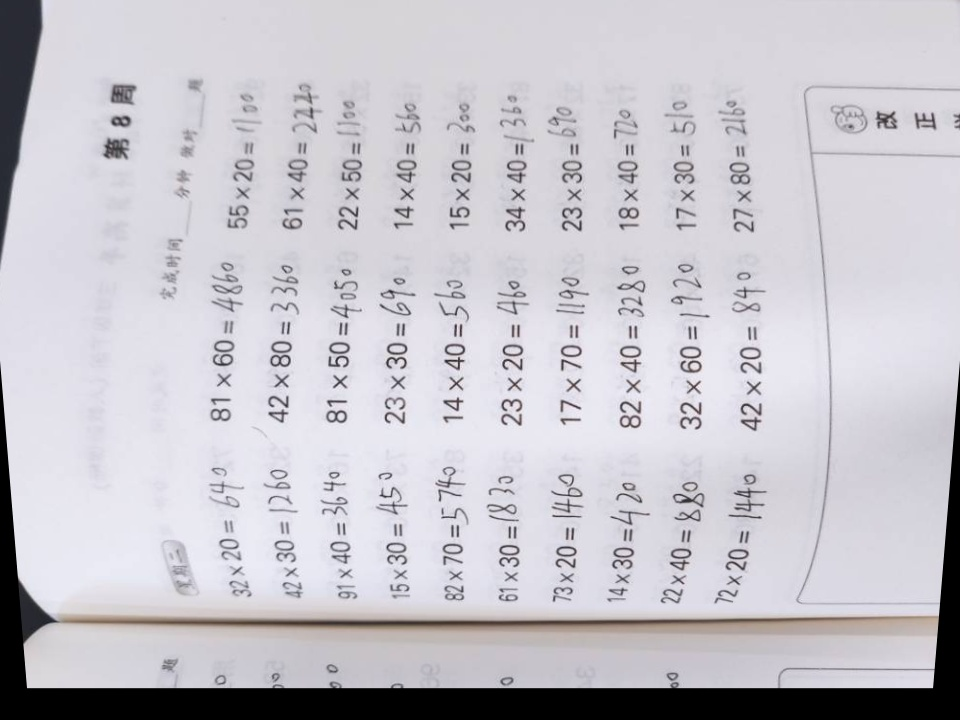equation: (209, 53, 266, 243), (710, 69, 767, 258), (368, 50, 424, 240), (269, 47, 325, 237), (316, 50, 372, 240), (602, 57, 658, 246), (654, 64, 710, 253), (423, 53, 478, 243), (547, 57, 602, 246), (486, 58, 541, 247), (665, 258, 720, 436), (724, 256, 779, 434), (191, 251, 245, 429), (309, 250, 363, 428), (248, 247, 302, 425), (607, 254, 661, 432), (543, 258, 597, 436), (425, 250, 478, 428), (368, 249, 421, 427), (486, 254, 539, 432), (261, 441, 314, 607), (711, 448, 764, 614), (599, 443, 651, 610), (482, 445, 534, 612), (201, 453, 258, 605), (651, 449, 703, 615), (545, 440, 597, 606), (320, 459, 376, 611), (427, 456, 482, 608), (369, 455, 424, 606)
